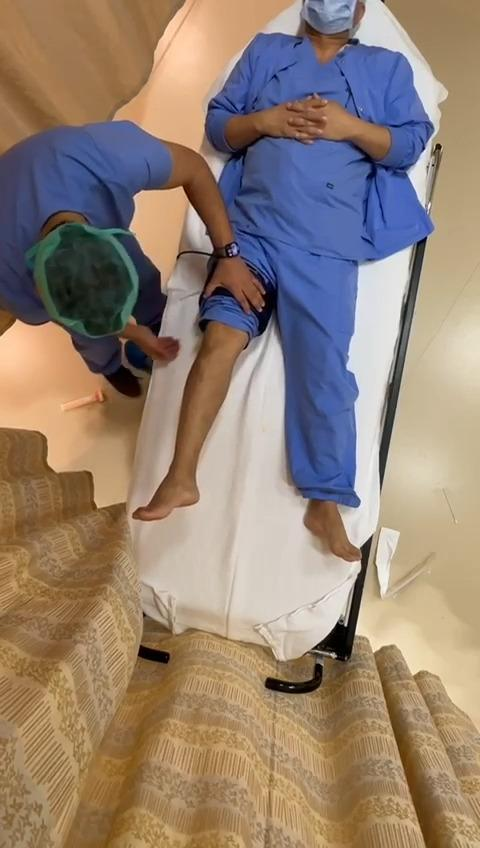bed: (99, 0, 445, 661)
patient: (132, 0, 434, 561)
